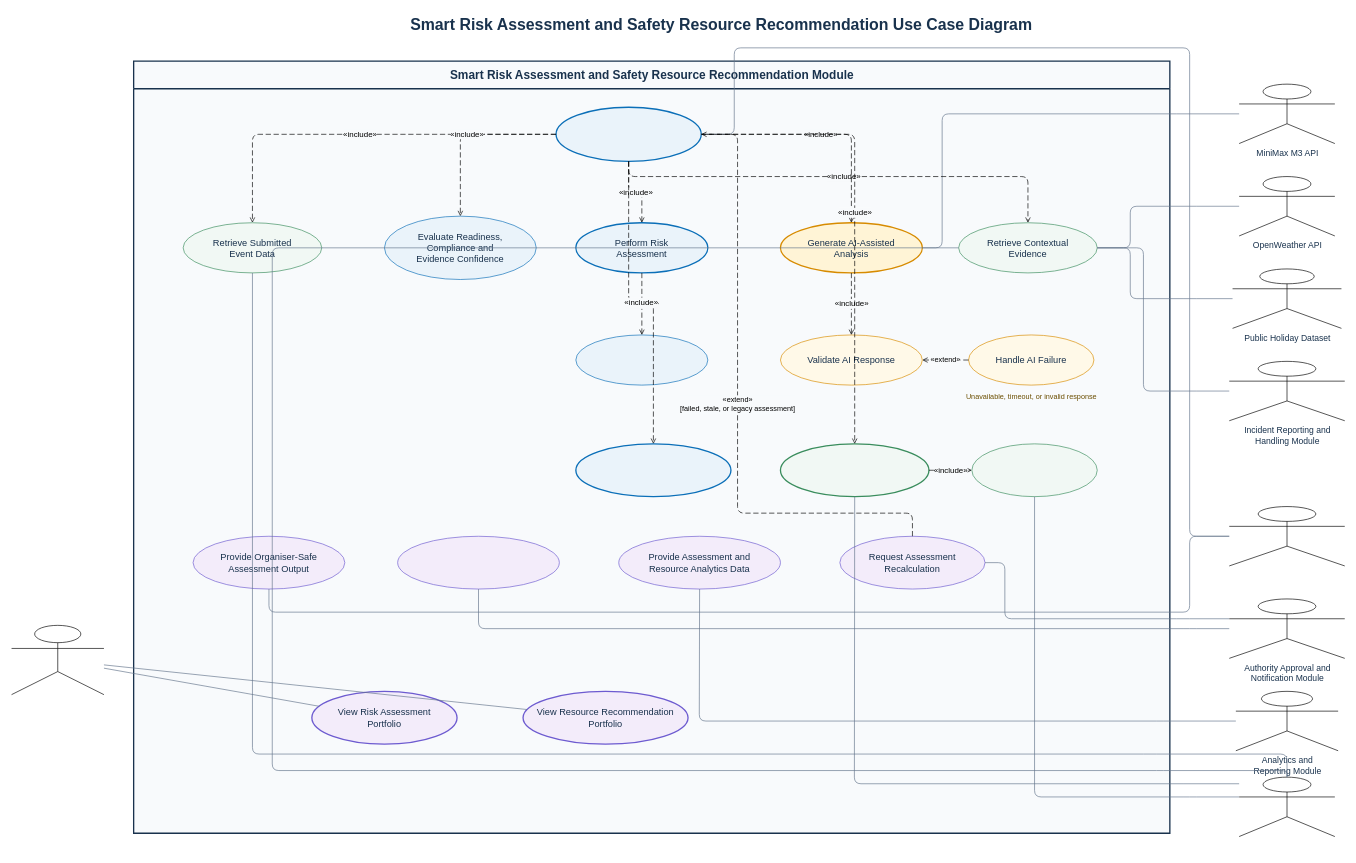
Image size: 1356x863. Some labels were removed from this diagram. The box of each missing label's shape, as (x1, y1, x2, y2) in pixels:
Authority Officer: (11, 625, 104, 695)
Firestore Database: (1238, 776, 1335, 837)
Generate Safety Resource Recommendation: (575, 443, 731, 497)
Process Submitted Event Application: (555, 106, 702, 162)
Provide Detailed Assessment and Resource Output: (397, 536, 559, 589)
Record Assessment Audit Trail: (971, 443, 1097, 497)
Store Assessment and Resource Records: (779, 443, 929, 497)
User and Event Management Module: (1229, 506, 1345, 566)
Validate Assessment Result: (575, 334, 708, 385)
